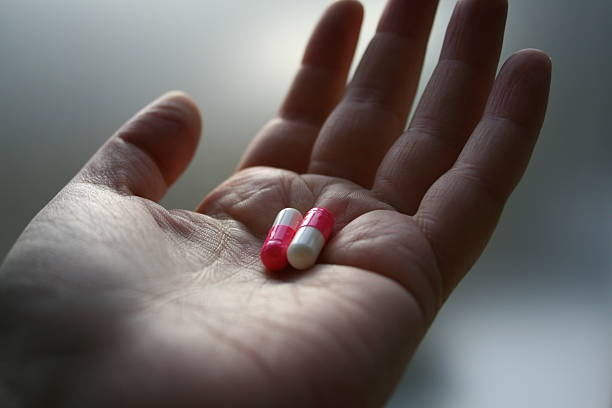pills: (291, 205, 336, 268), (267, 206, 299, 271)
